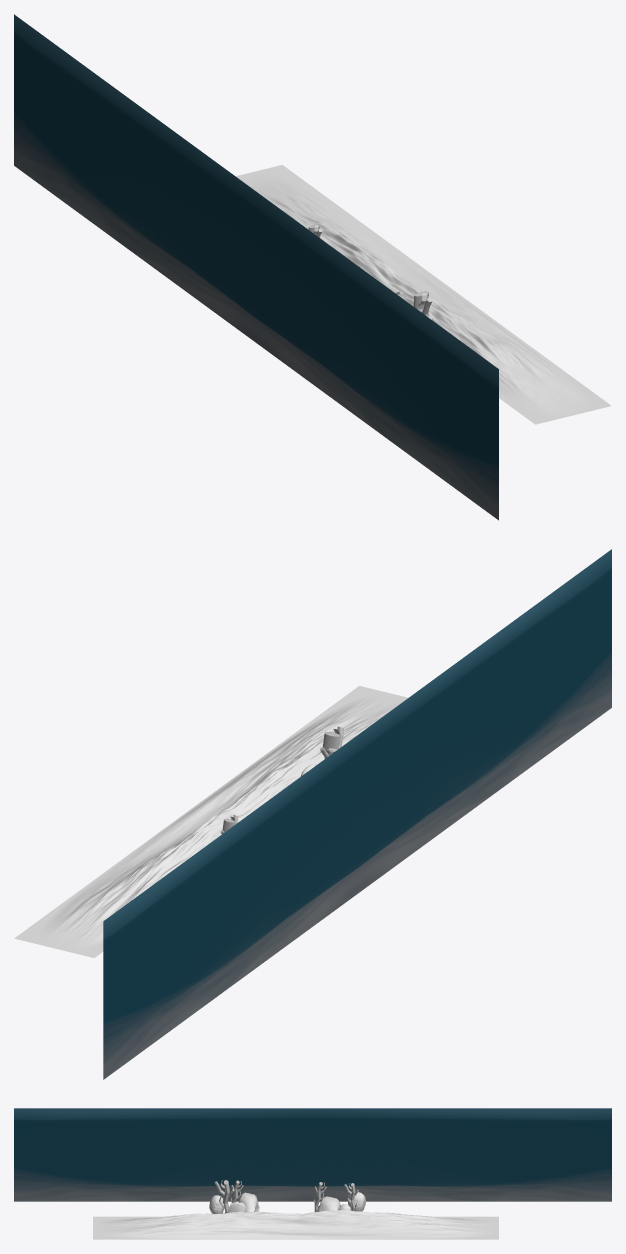
Rendered from cenadomar.fbx.
3 views of the same model, one above another, from view 1: azimuth 30°, elevation 25°; view 2: azimuth 150°, elevation 25°; view 3: azimuth 270°, elevation 25° (orthographic). The views are drawn at different scales.
Parts seen in each view (by area): view 1: g4563, Landscape; view 2: g4563, Landscape; view 3: g4563, Landscape, rock.005, rock, rock.001, rock.003.
Part boxes in pixels (x1=…): g4563: x1=14, y1=14, x2=498, y2=520; Landscape: x1=236, y1=165, x2=611, y2=424; g4563: x1=103, y1=549, x2=611, y2=1079; Landscape: x1=14, y1=686, x2=408, y2=957; g4563: x1=14, y1=1108, x2=611, y2=1201; Landscape: x1=93, y1=1210, x2=498, y2=1239; rock.005: x1=238, y1=1192, x2=259, y2=1212; rock: x1=316, y1=1196, x2=340, y2=1211; rock.001: x1=209, y1=1195, x2=224, y2=1213; rock.003: x1=348, y1=1192, x2=365, y2=1211.
Size of the model in its own units: 462 by 378 by 2193.
